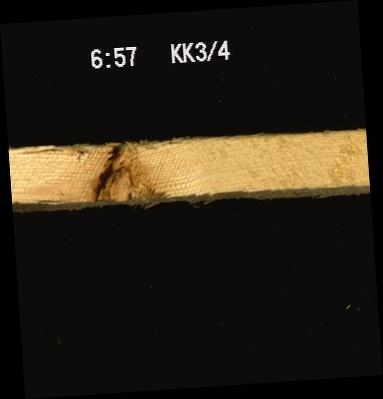edge_knot: (90, 143, 159, 202)
